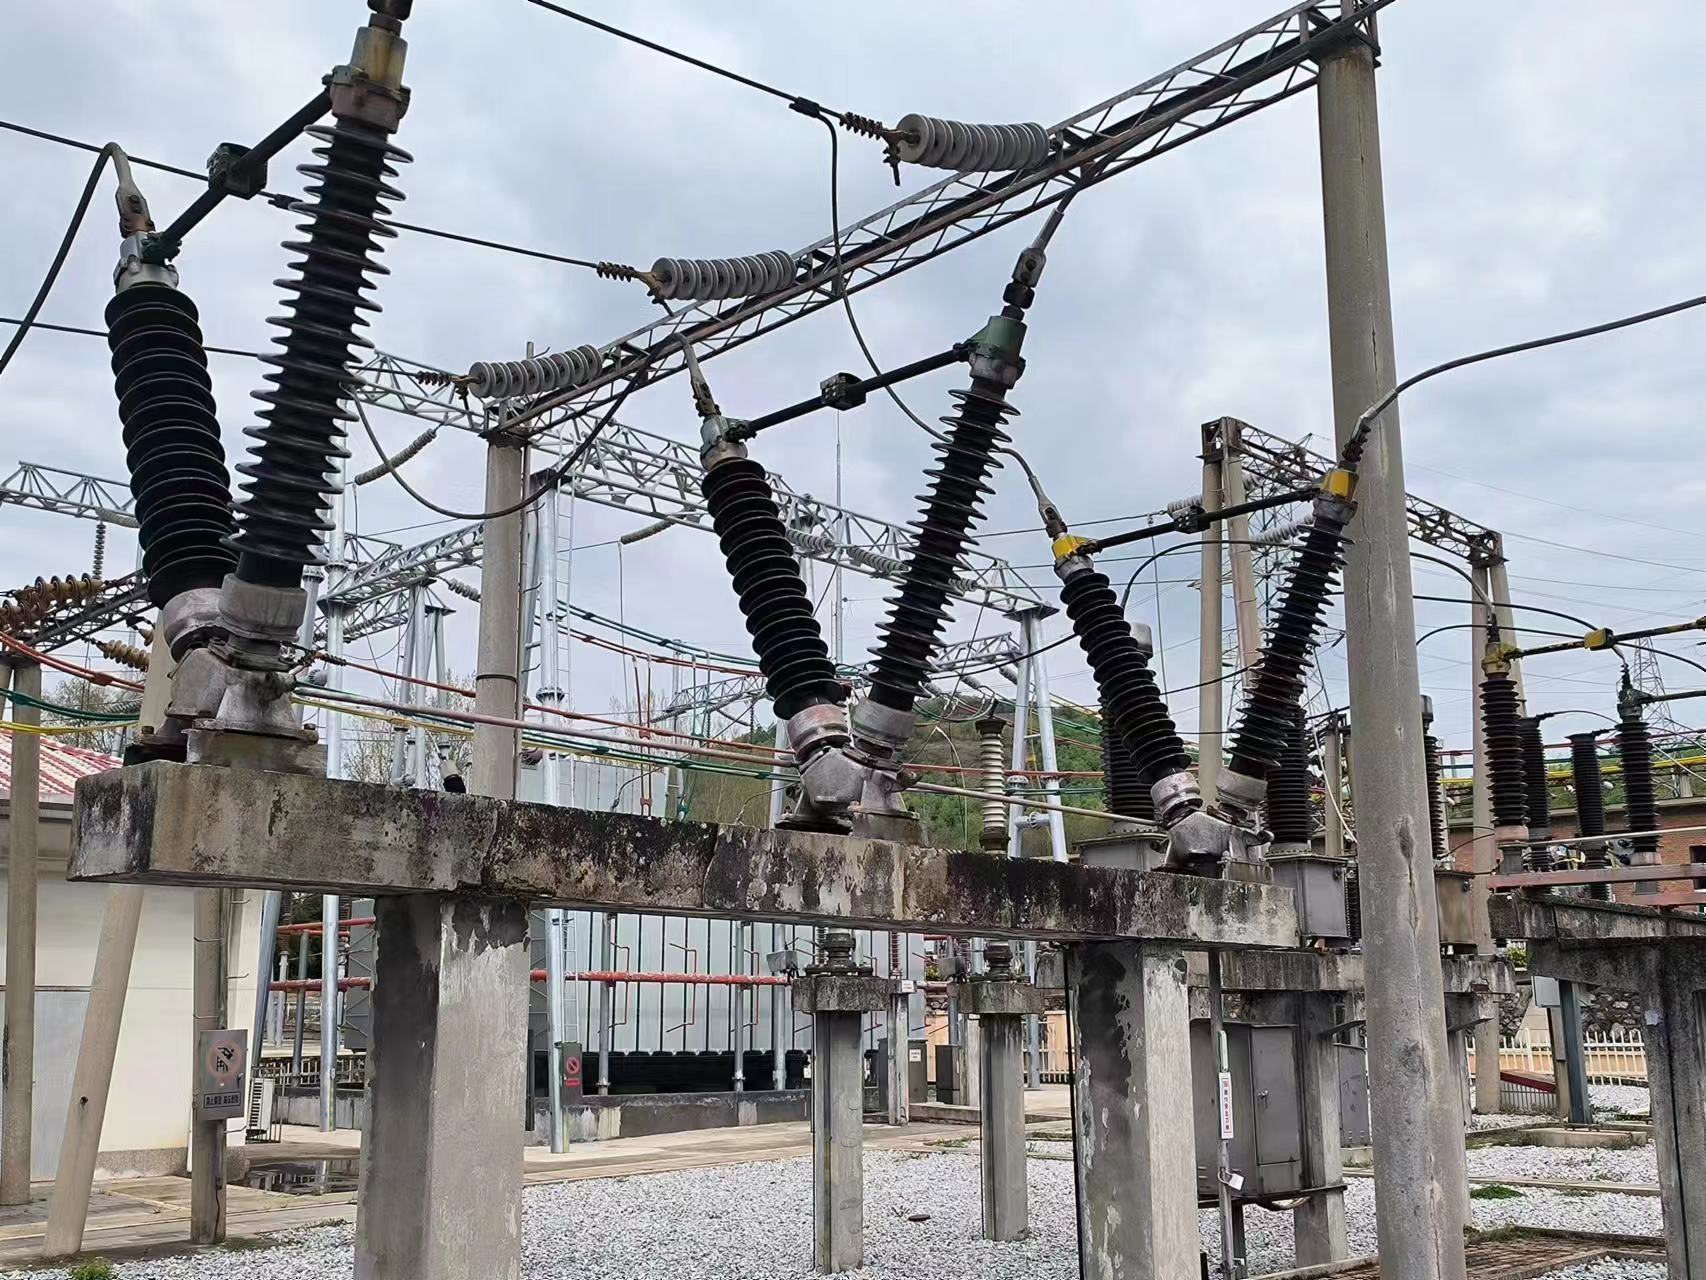Isolating switch: (99, 17, 433, 663), (669, 313, 1032, 770), (1053, 457, 1369, 851)
